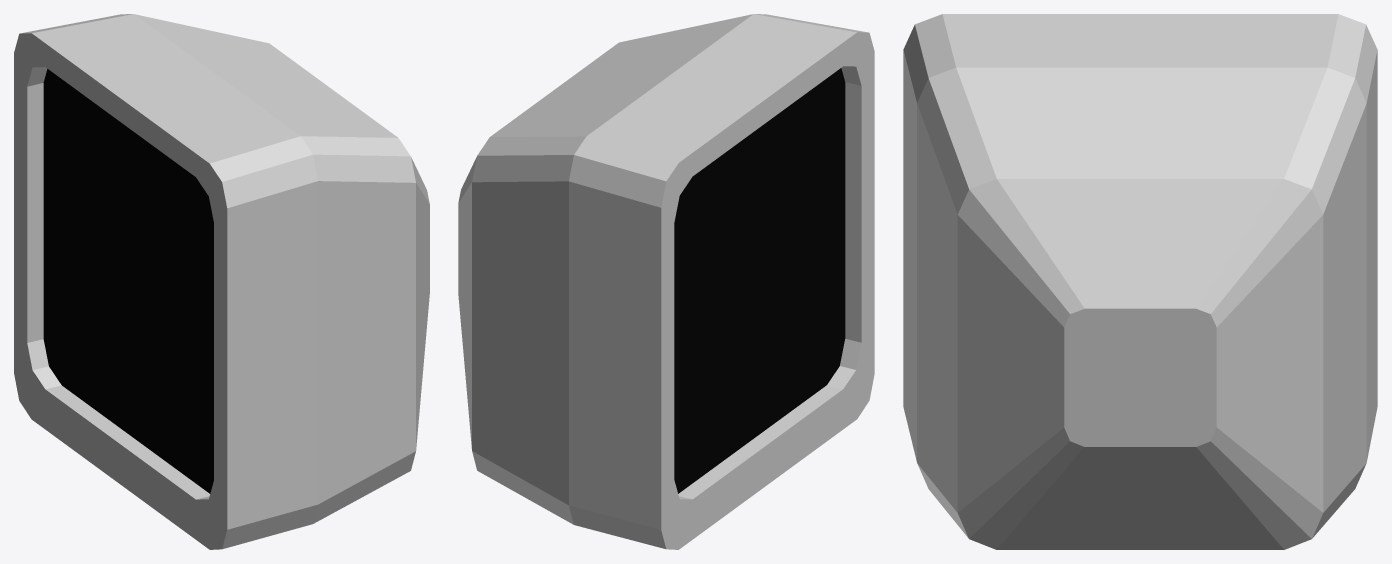
File: PCICON.glb
The picture shows the model from 3 angles, left to right: view 1: azimuth 30°, elevation 25°; view 2: azimuth 150°, elevation 25°; view 3: azimuth 270°, elevation 25°; orthographic projection. The views are drawn at different scales.
Parts seen in each view (by area): view 1: Cube; view 2: Cube; view 3: Cube.
Part boxes in pixels (x1,y1,x2,y2): Cube: [14, 14, 429, 549]; Cube: [458, 14, 874, 549]; Cube: [903, 14, 1377, 549].
Size of the model in its own units: 2.89 by 3.91 by 3.88.
Materials: 2 (1 with a texture image).
